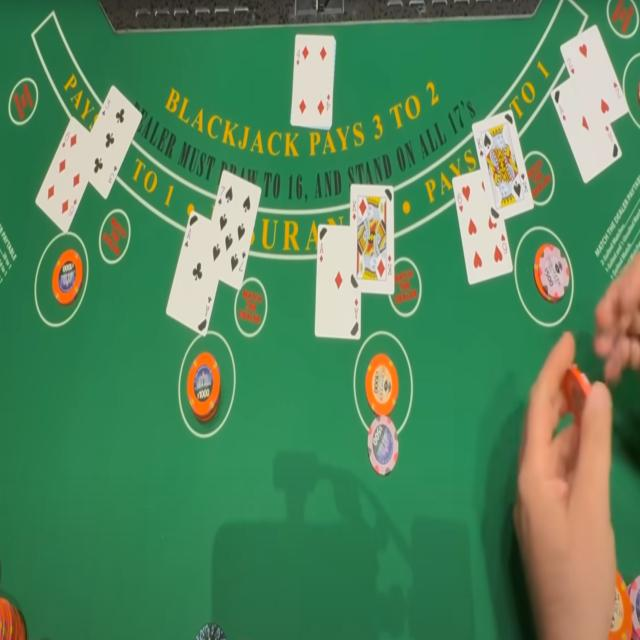2: (566, 56, 573, 69)
3: (105, 97, 111, 111)
4: (296, 47, 302, 59)
6: (456, 191, 463, 205), (65, 130, 70, 142)
7: (219, 185, 225, 197)
A: (318, 241, 326, 255), (557, 104, 565, 115), (186, 227, 192, 240)
K: (476, 137, 483, 150), (352, 198, 358, 213)
